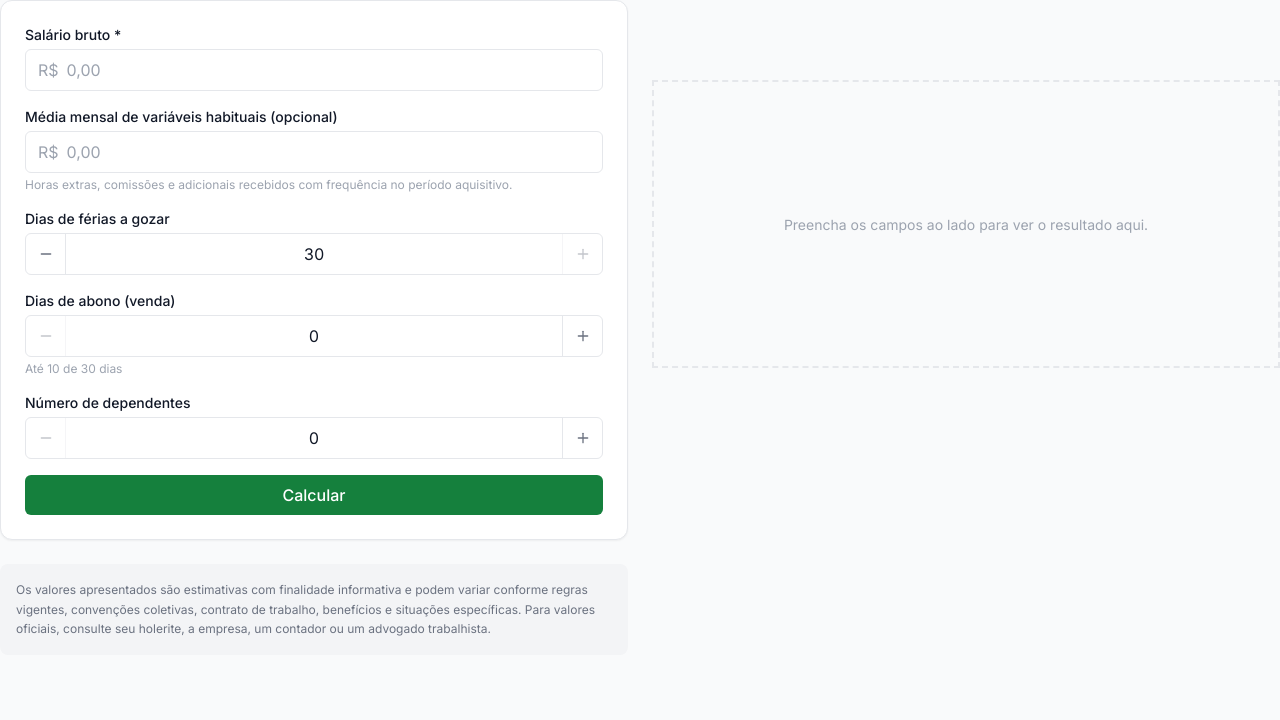
VacationCalculator › erro de dias vendidos aparece no campo de abono, em português
This screenshot has width=1280, height=720.
Type "300000" into the field labelled "Salário bruto *" at (324, 70), box left=59, top=50, right=590, bottom=90
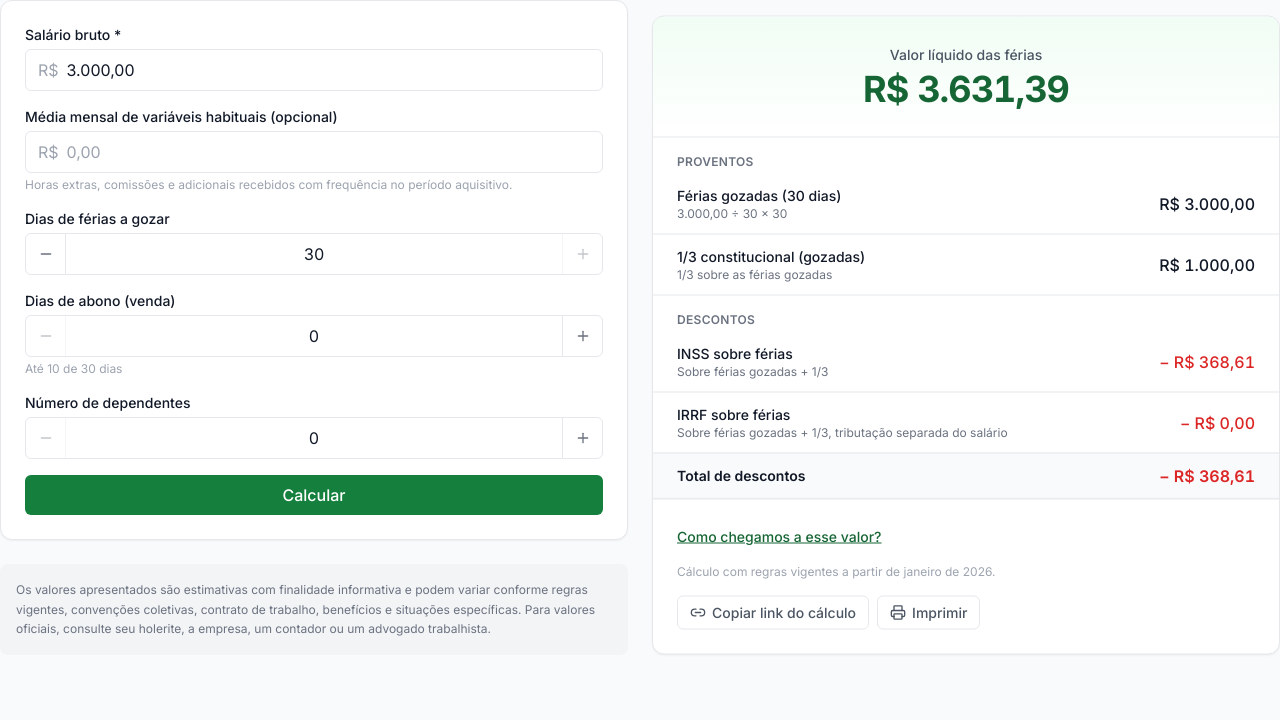
Replace the text in the number field labelled "Dias de férias a gozar" with "25" at (314, 254), box left=66, top=234, right=562, bottom=274
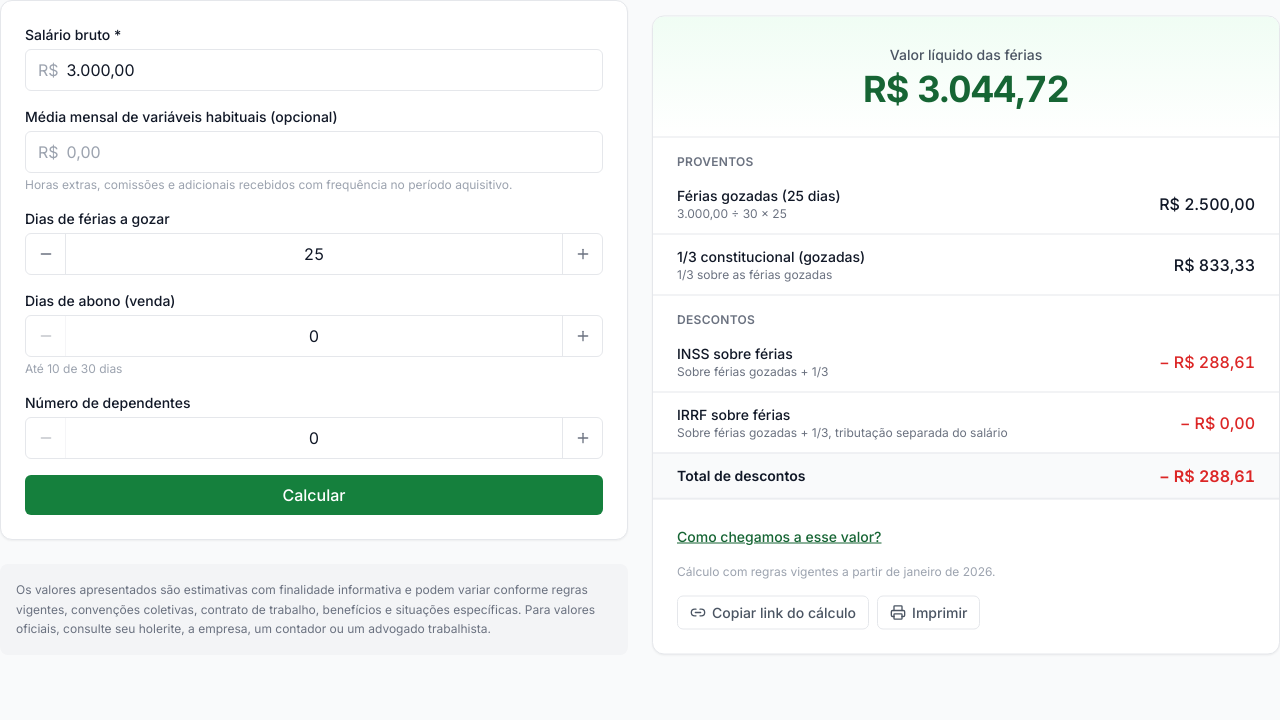
Replace the text in the number field labelled "Dias de abono (venda)" with "10" at (314, 336), box left=66, top=316, right=562, bottom=356
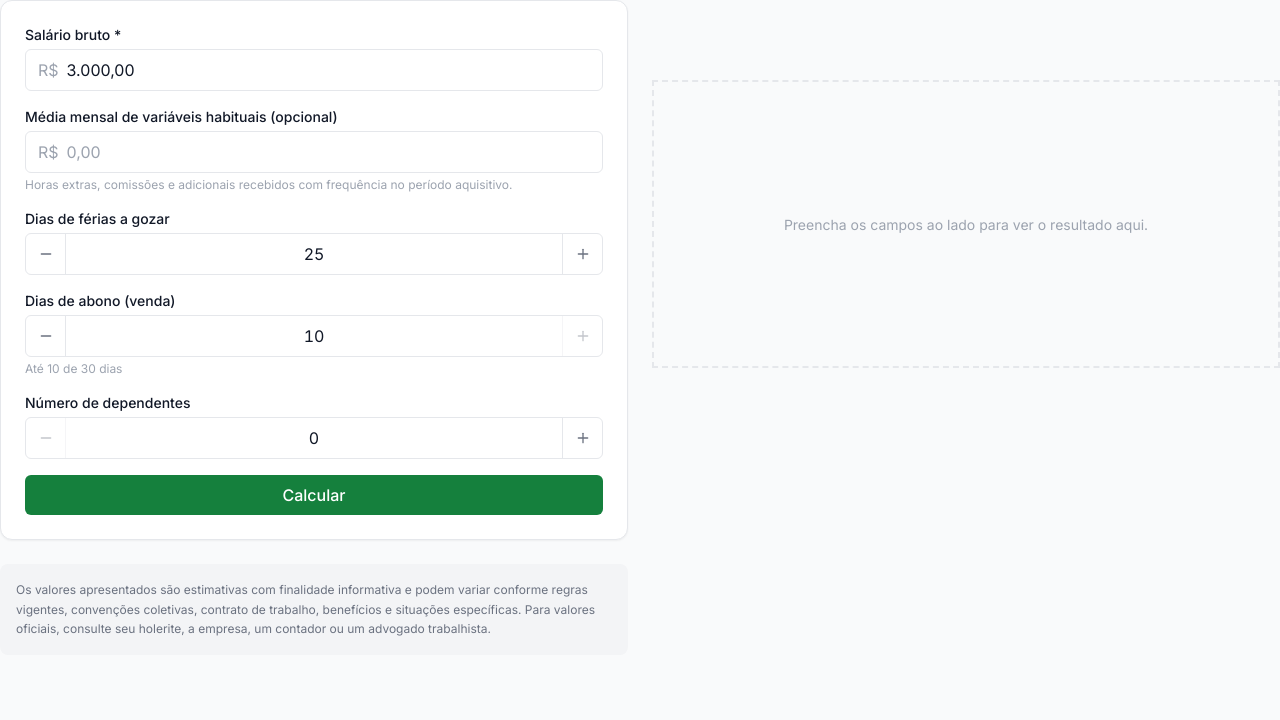
Submit the form named "Calcular", box left=0, top=0, right=628, bottom=540
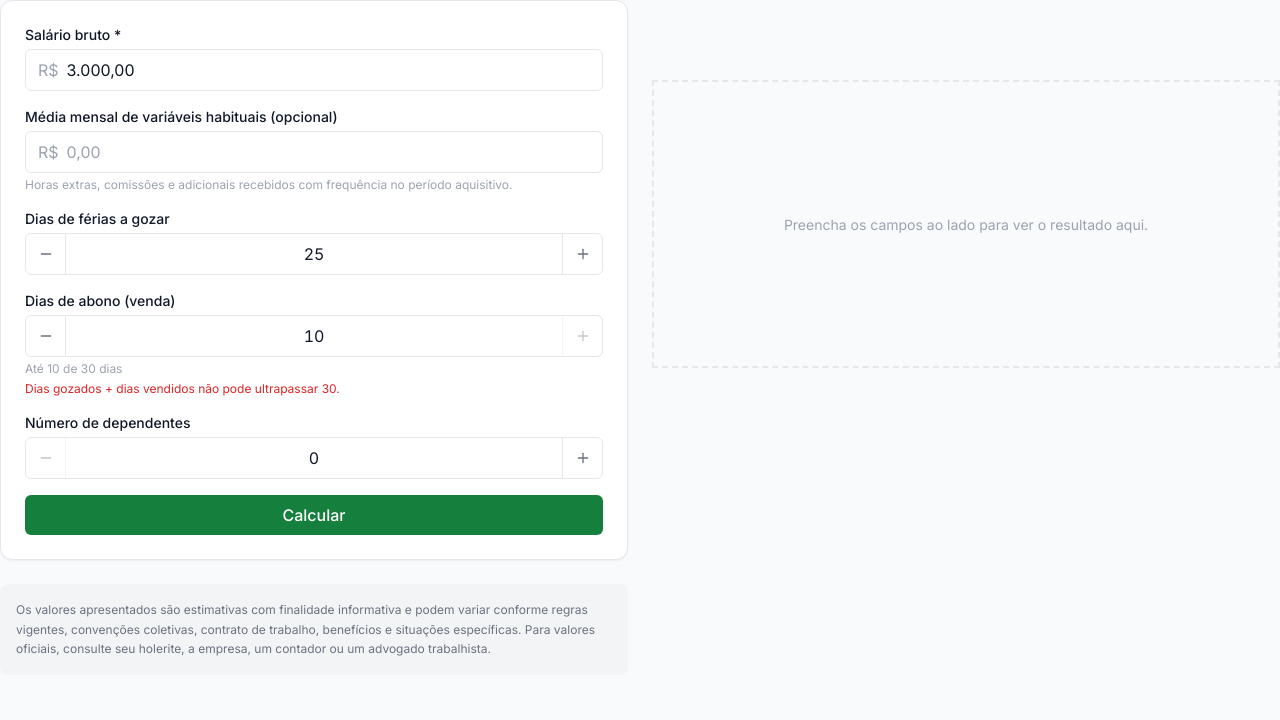
expect the text "Dias gozados + dias vendidos não pode ultrapassar 30." is shown: met, box left=25, top=381, right=340, bottom=396
